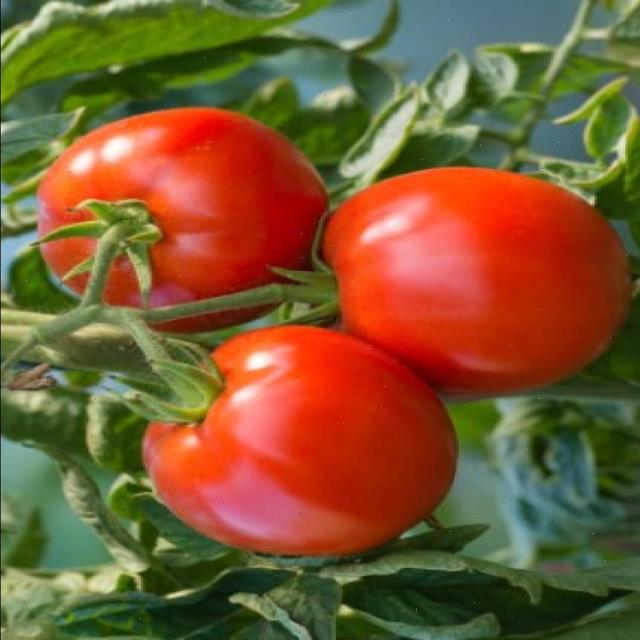Healthy Fruit: (110, 147, 318, 302)
